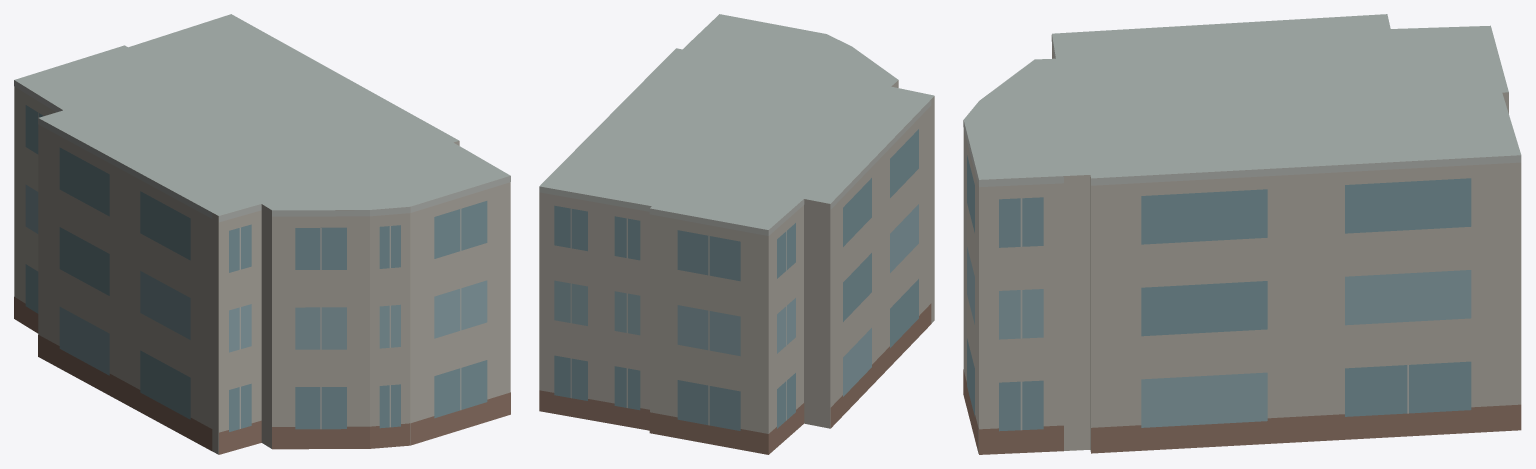
Rendered from survey-upis-32654952.glb.
3 views of the same model, side by side, from view 1: azimuth 30°, elevation 25°; view 2: azimuth 150°, elevation 25°; view 3: azimuth 270°, elevation 25° (orthographic). The views are drawn at different scales.
Parts seen in each view (by area): view 1: survey-upis-32654952.tmp; view 2: survey-upis-32654952.tmp; view 3: survey-upis-32654952.tmp.
Part boxes in pixels (x1,y1,x2,y2): survey-upis-32654952.tmp: (14, 14, 510, 454); survey-upis-32654952.tmp: (539, 14, 934, 454); survey-upis-32654952.tmp: (963, 14, 1521, 454).
Size of the model in its own units: 11.85 by 9.15 by 16.83.
